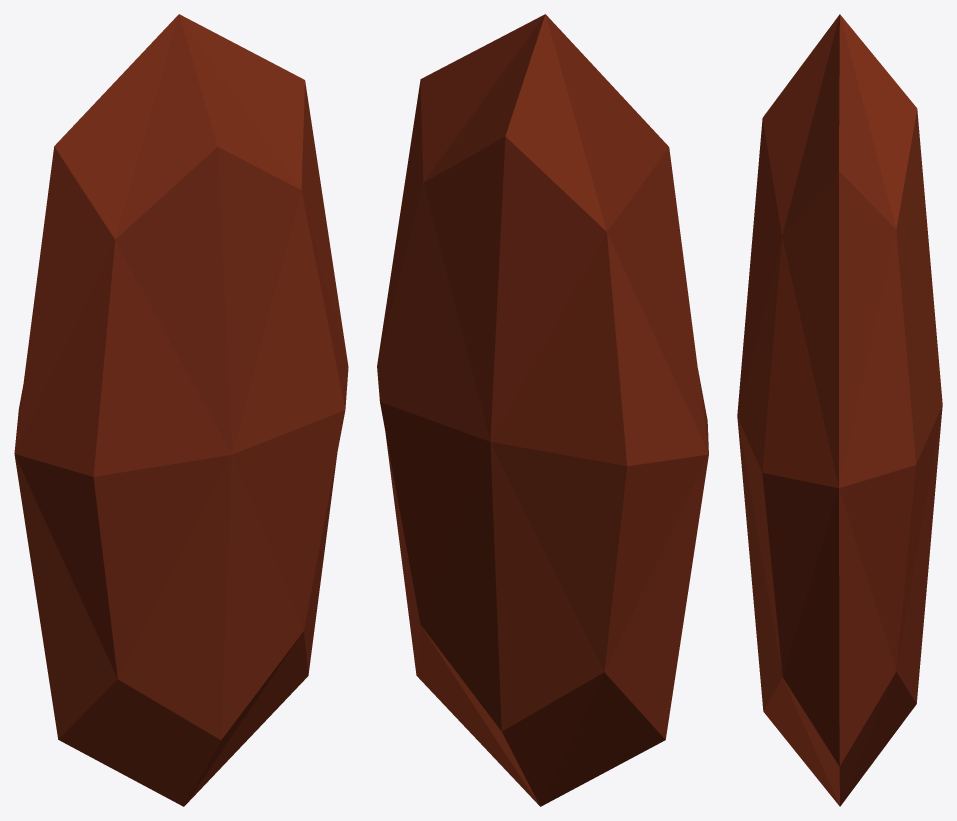
3 renders of one model, left to right at view 1: azimuth 30°, elevation 25°; view 2: azimuth 150°, elevation 25°; view 3: azimuth 270°, elevation 25°, orthographic.
Visible parts, largest first — view 1: 452_Cube.1831; view 2: 452_Cube.1831; view 3: 452_Cube.1831.
Part boxes in pixels (<box>): 452_Cube.1831: <box>14,14,348,806</box>; 452_Cube.1831: <box>377,14,708,806</box>; 452_Cube.1831: <box>737,14,942,806</box>.
Size of the model in its own units: 5.32 by 12.12 by 2.85.
